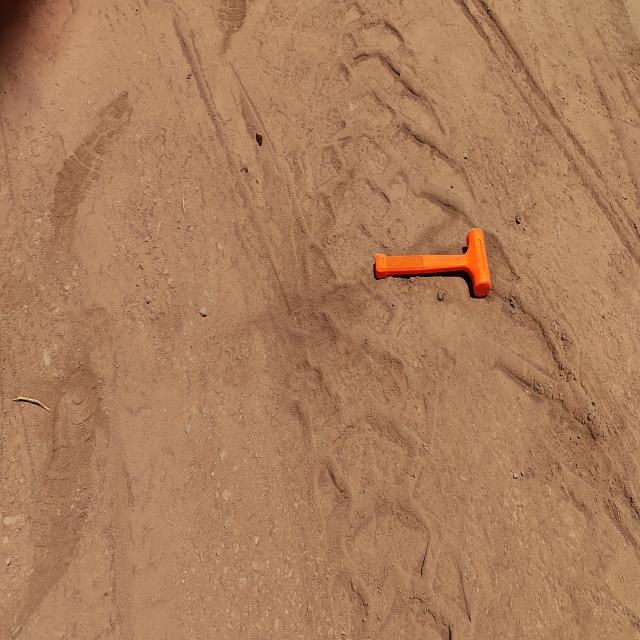Orange_hammer: (374, 226, 492, 299)
